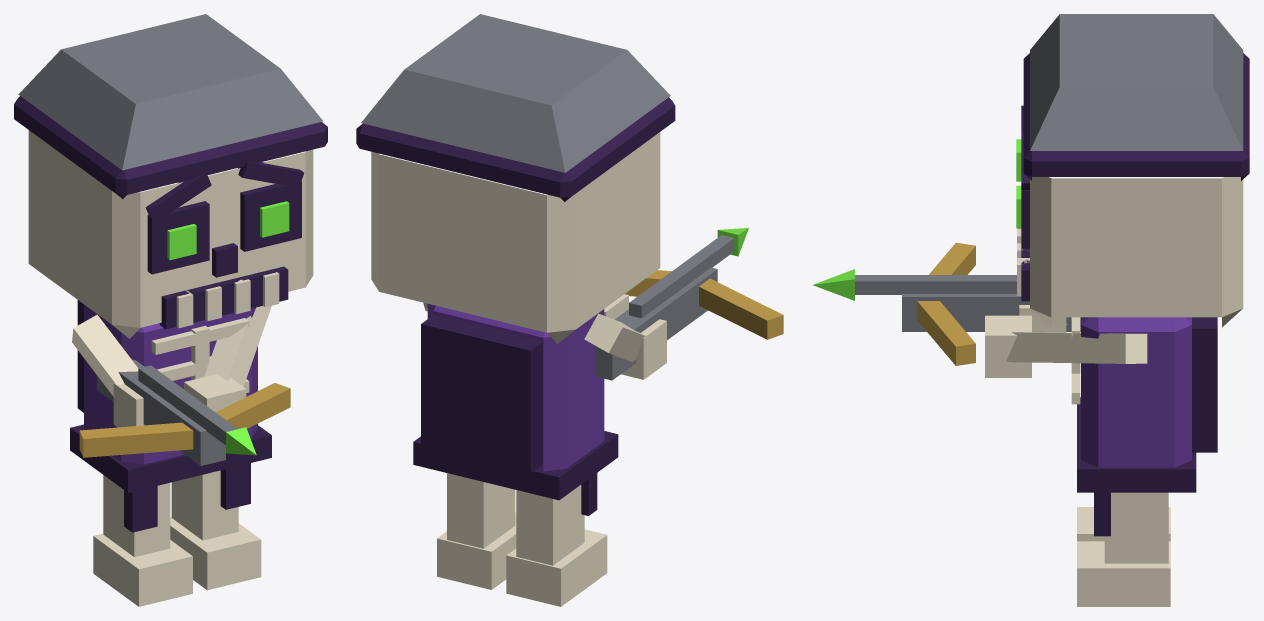
Rendered from gunner_r4.glb.
3 views of the same model, side by side, from view 1: azimuth 30°, elevation 25°; view 2: azimuth 150°, elevation 25°; view 3: azimuth 270°, elevation 25° (orthographic). The views are drawn at different scales.
Parts seen in each view (by area): view 1: gunner_r4_mesh; view 2: gunner_r4_mesh; view 3: gunner_r4_mesh.
Part boxes in pixels (<box>): gunner_r4_mesh: <box>14,14,327,606</box>; gunner_r4_mesh: <box>356,14,783,606</box>; gunner_r4_mesh: <box>813,14,1249,606</box>.
Size of the model in its own units: 0.9217 by 1.6 by 1.21.
1 material, 1 textured.
